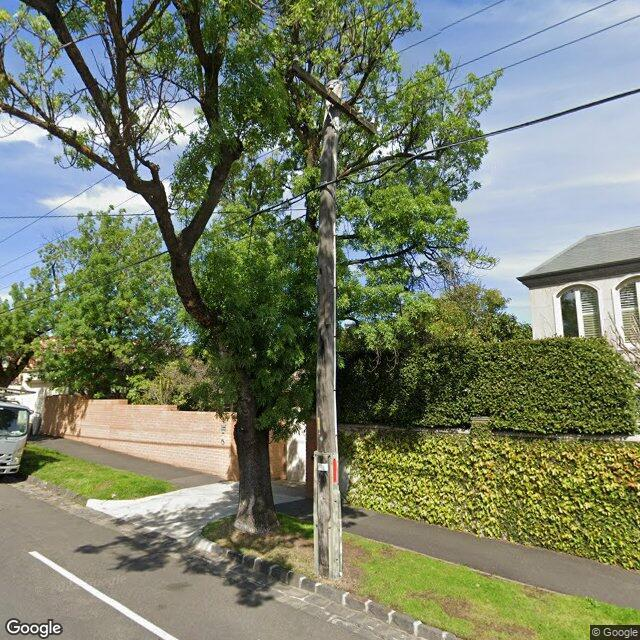crossarm: (287, 62, 376, 135)
timber-pole: (313, 79, 344, 580)
